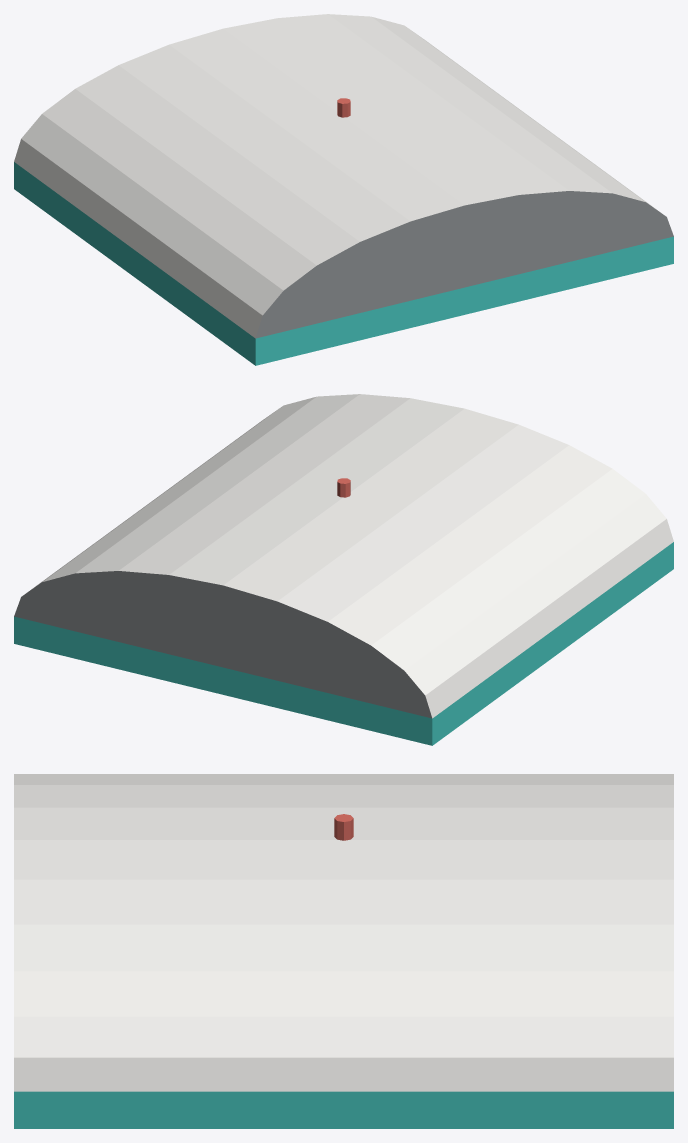
Rendered from fv_station_cap.glb.
3 views of the same model, one above another, from view 1: azimuth 30°, elevation 25°; view 2: azimuth 150°, elevation 25°; view 3: azimuth 270°, elevation 25° (orthographic). The views are drawn at different scales.
Parts seen in each view (by area): view 1: fv_station_cap; view 2: fv_station_cap; view 3: fv_station_cap.
Part boxes in pixels (x1,y1,x2,y2): fv_station_cap: (14, 14, 673, 365); fv_station_cap: (14, 394, 673, 745); fv_station_cap: (14, 774, 673, 1128).
Size of the model in its own units: 9.6 by 2.75 by 9.6.
